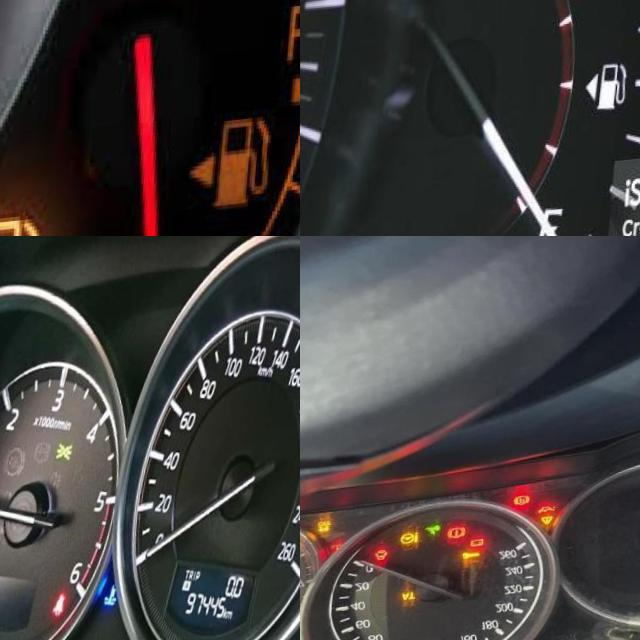Electronic Power Steering: (406, 537, 424, 552)
Seat Belt: (59, 596, 73, 621)
